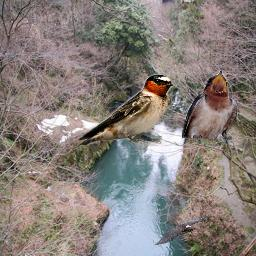Crow: (155, 213, 207, 245)
Swallow: (76, 73, 174, 146), (182, 70, 238, 144)
